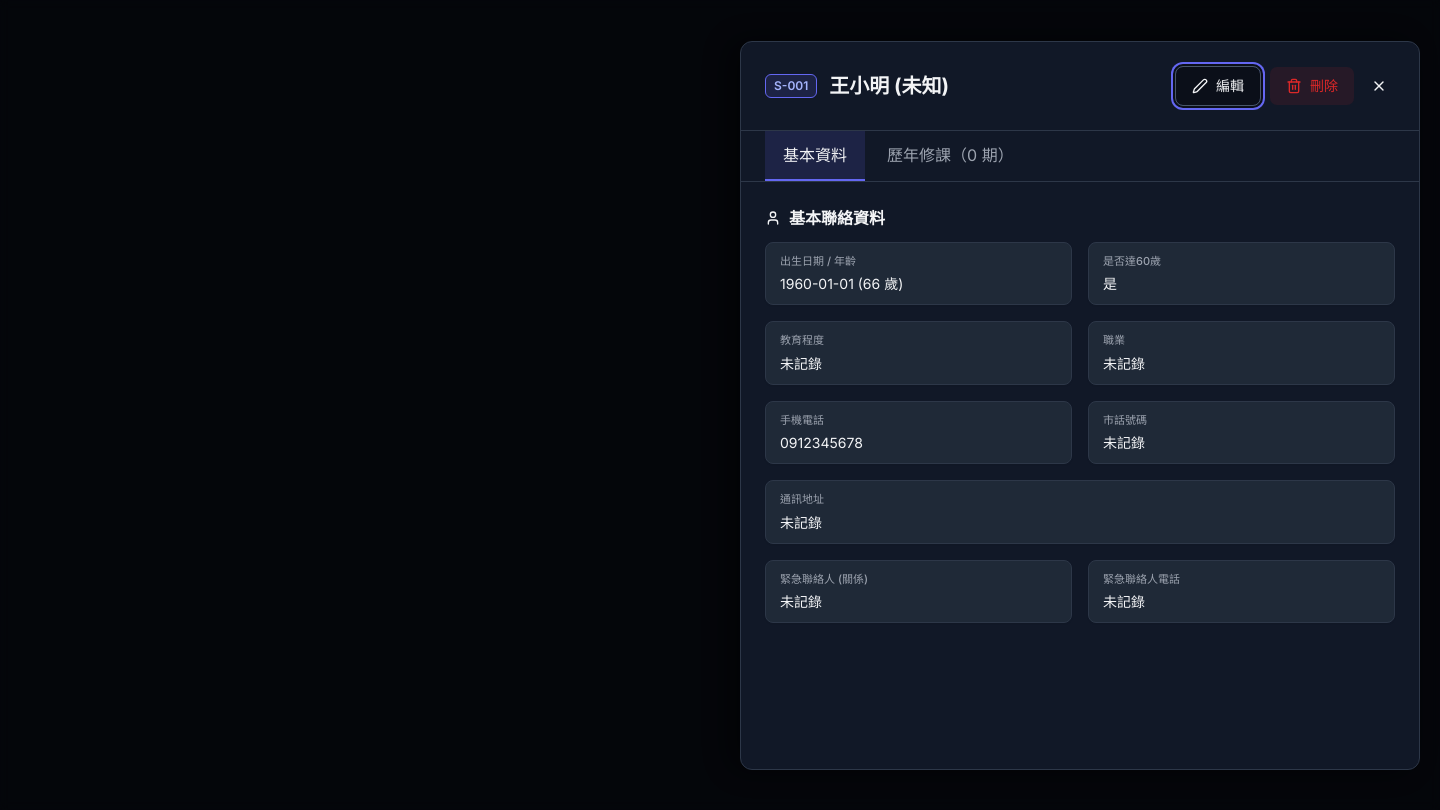
Scenario: Student detail components › guards Escape dismissal when profile edits are unsaved
This screenshot has width=1440, height=810.
Click the button "編輯": (1218, 86) 1175,66 -> 1261,106
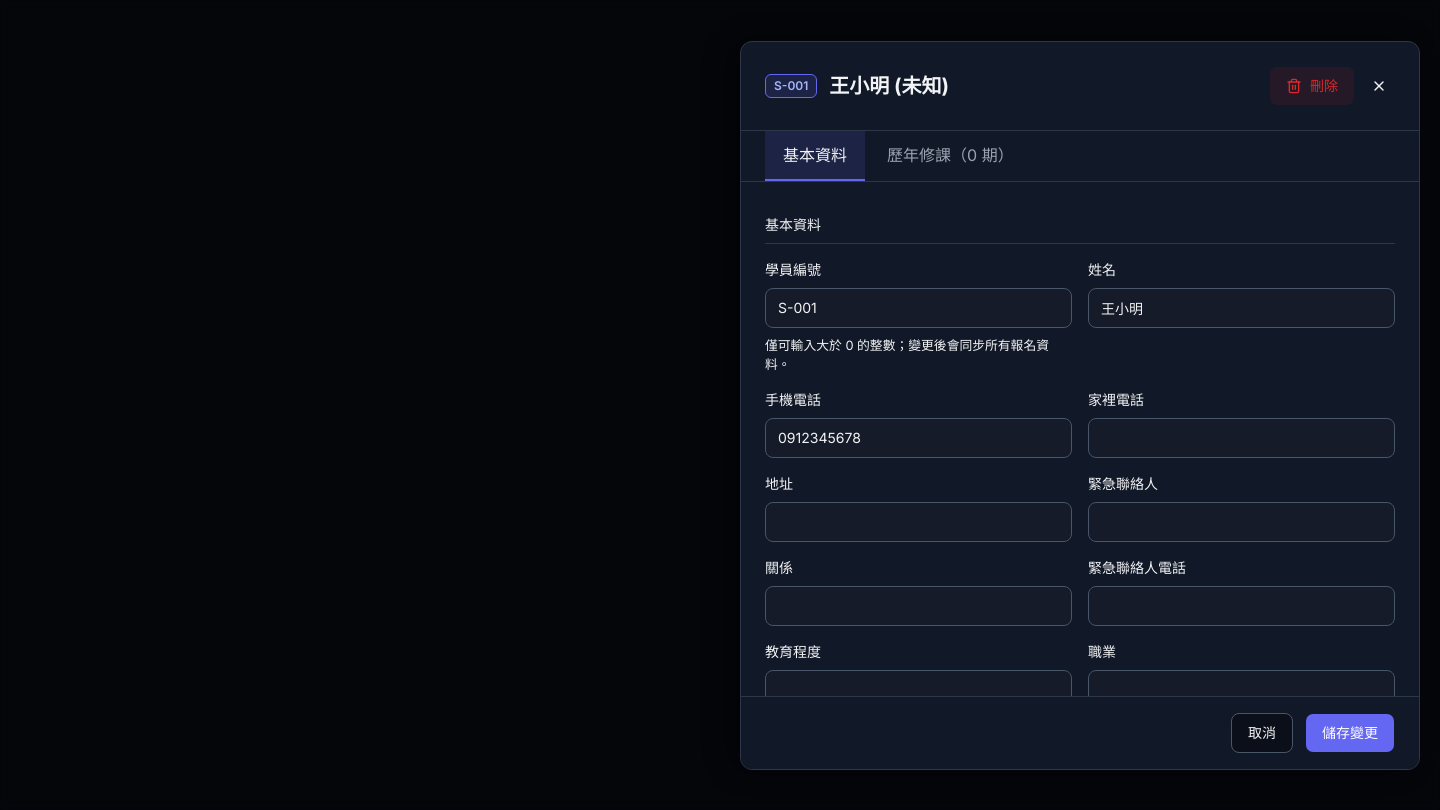
Replace the text in the field showing "王小明" below "姓名" with "王大明": (1242, 308) 1088,288 -> 1395,328
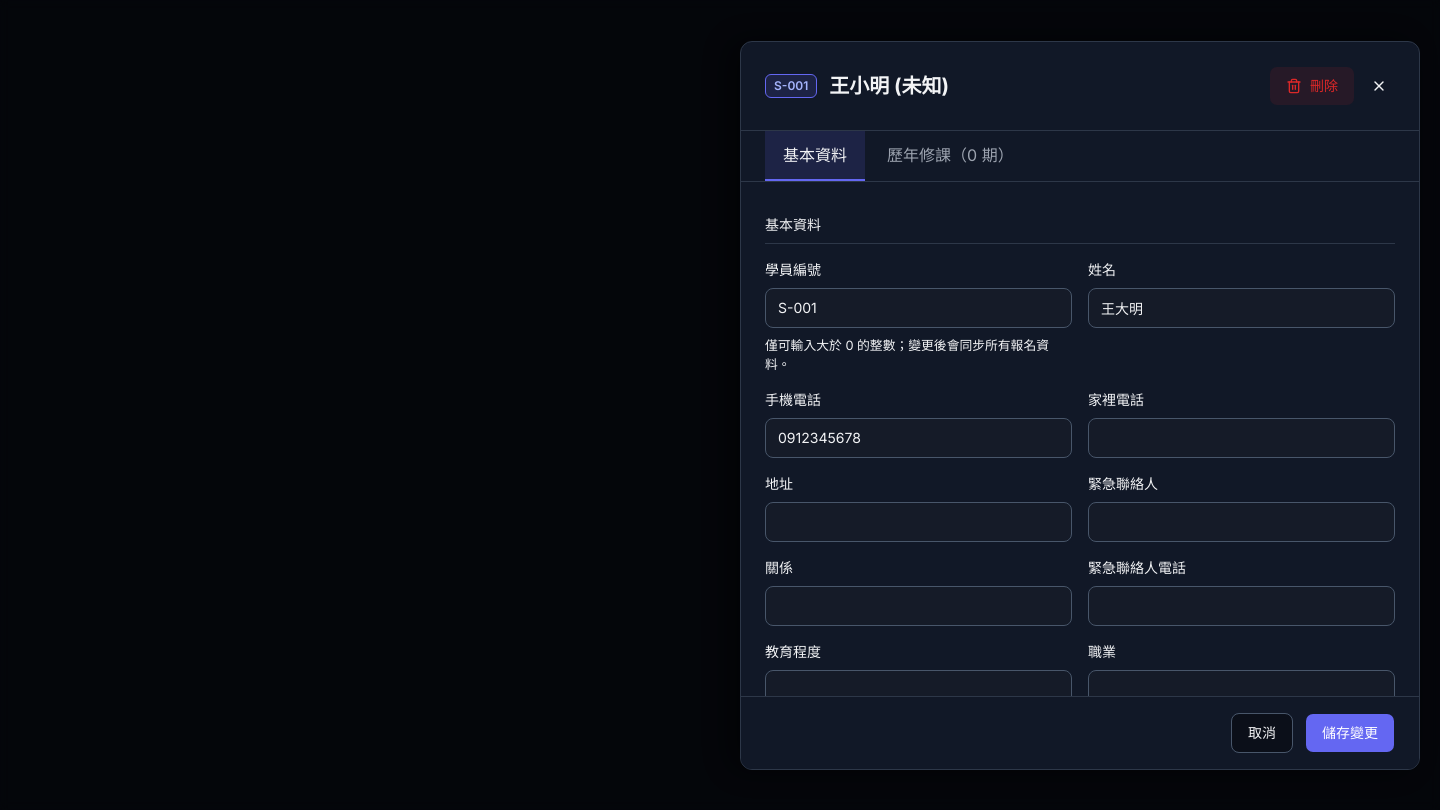
Press Escape in the dialog, box 740,40 -> 1420,770
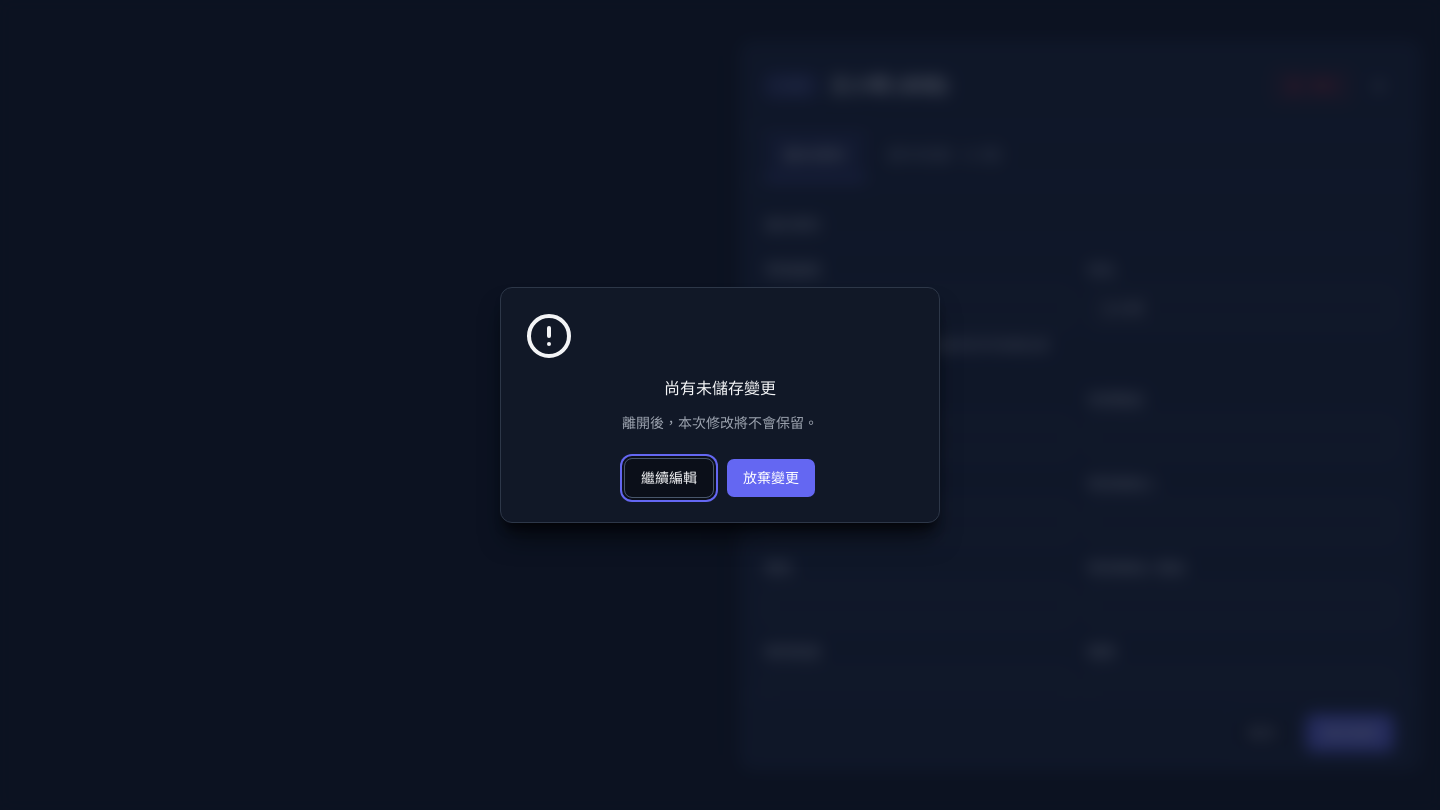
Expected: the heading "尚有未儲存變更" is shown, 664,378 -> 776,398
